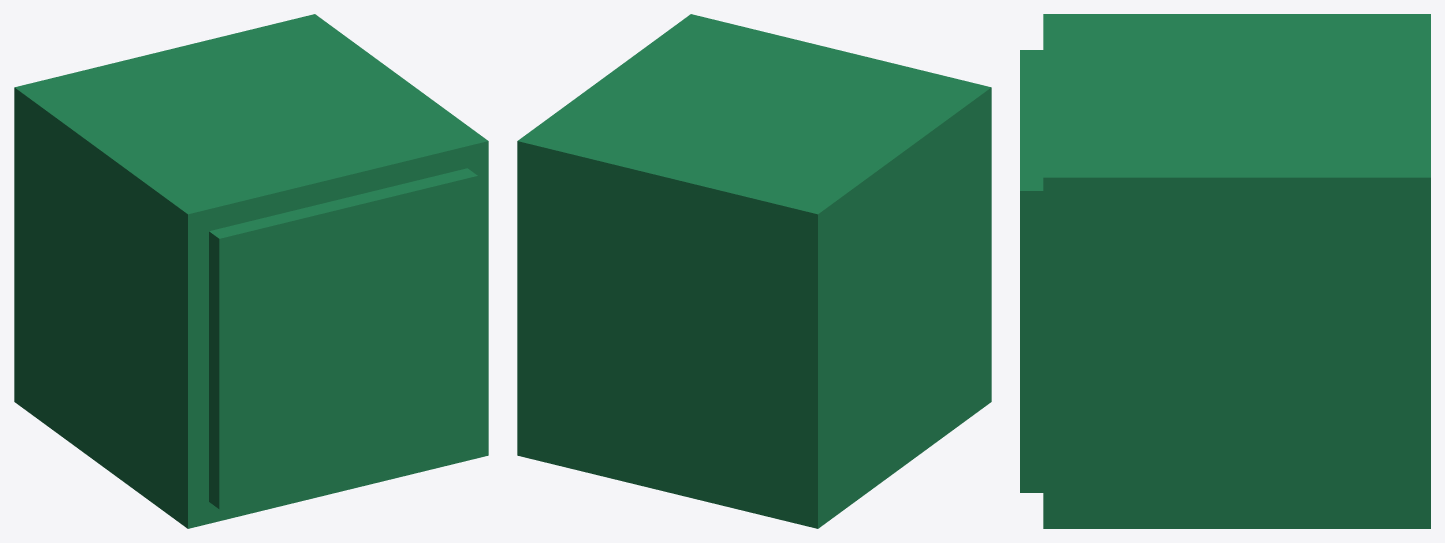
File: screen_whole.glb
3 renders of one model, left to right at view 1: azimuth 30°, elevation 25°; view 2: azimuth 150°, elevation 25°; view 3: azimuth 270°, elevation 25°, orthographic. The views are drawn at different scales.
Visible parts, largest first — view 1: screen_whole_0; view 2: screen_whole_0; view 3: screen_whole_0.
Part boxes in pixels (left/top/right/bottom): screen_whole_0: left=14, top=14, right=488, bottom=528; screen_whole_0: left=517, top=14, right=991, bottom=528; screen_whole_0: left=1020, top=14, right=1430, bottom=528.
Bounding box in the file's own units: 1 × 1 × 1.06.
